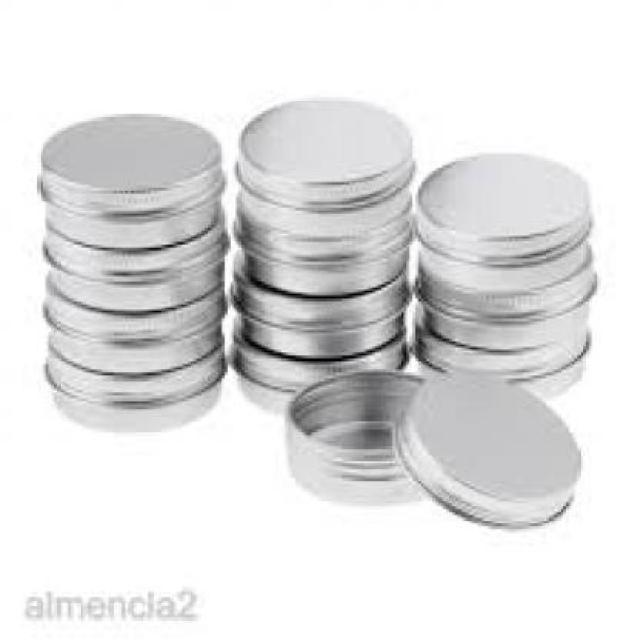metal: (391, 368, 578, 524), (31, 111, 224, 250), (411, 154, 595, 290), (234, 97, 410, 239), (284, 368, 418, 502), (40, 285, 222, 373), (415, 265, 600, 347), (37, 225, 221, 307), (43, 348, 219, 430), (228, 274, 407, 351), (231, 214, 407, 291), (228, 338, 404, 409), (412, 325, 586, 390)
